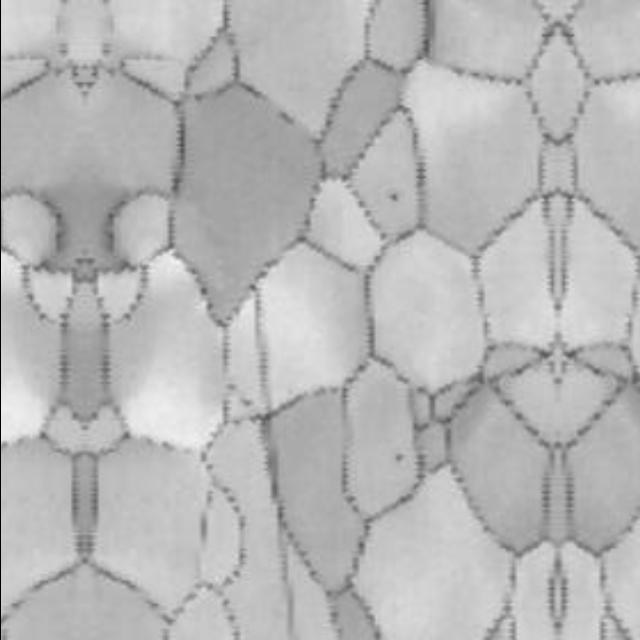good_void: (381, 185, 402, 206), (388, 447, 408, 468), (239, 397, 252, 413)
